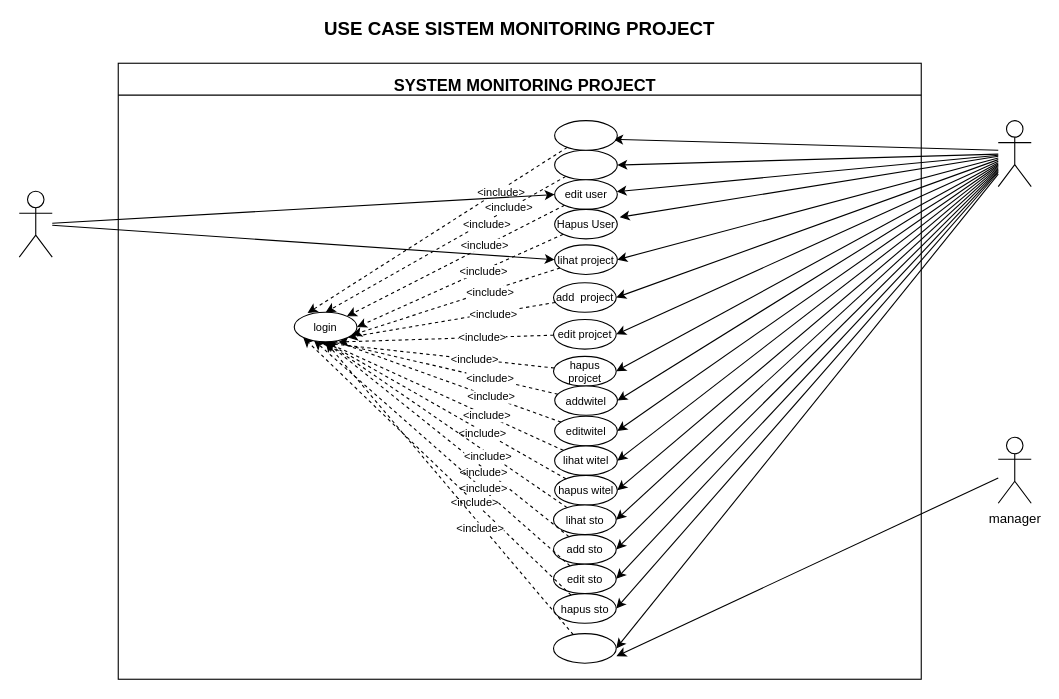
This 1059x699 diagram has some shape labels left out. The centre of each missing label's shape, as x and y in pixels:
"add user" goes at (x=585, y=164).
"admin" goes at (x=1014, y=153).
"cetak laporan" goes at (x=584, y=647).
"lihat user" goes at (x=585, y=135).
"user" goes at (x=35, y=223).
